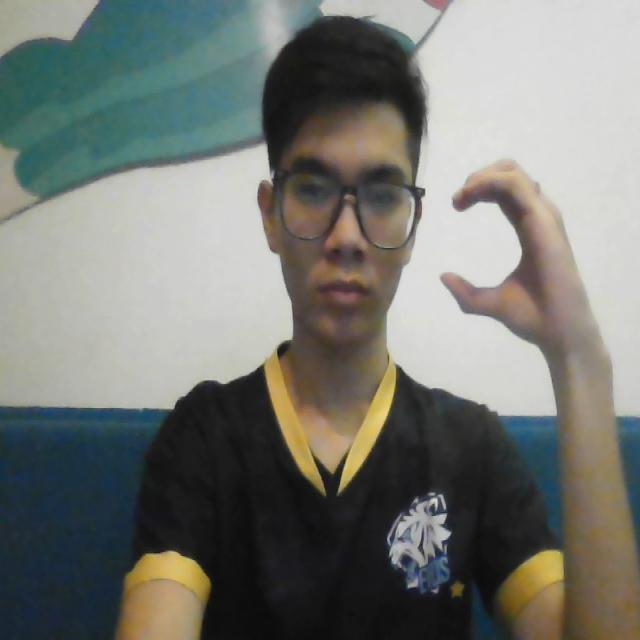C: (436, 149, 578, 344)
